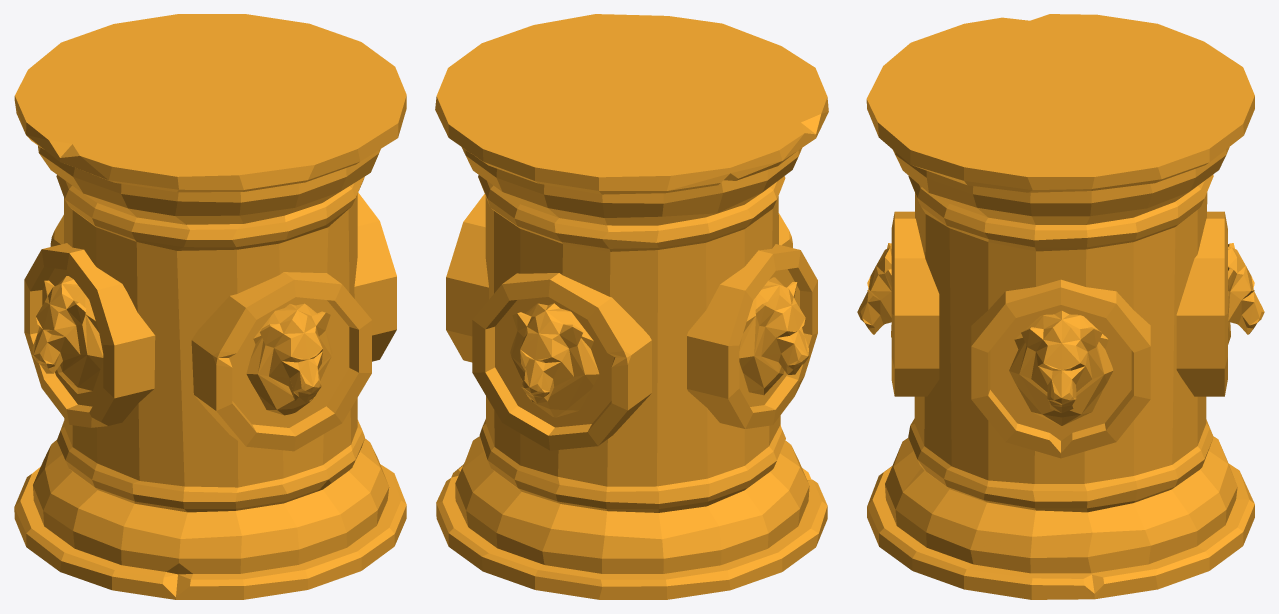
Rendered from SM_Pedestal_Cylindrical_A_Fantasy.fbx.
3 views of the same model, side by side, from view 1: azimuth 30°, elevation 25°; view 2: azimuth 150°, elevation 25°; view 3: azimuth 270°, elevation 25° (orthographic).
Parts seen in each view (by area): view 1: SM_Pedestal_Cylindrical_Fantasy_A; view 2: SM_Pedestal_Cylindrical_Fantasy_A; view 3: SM_Pedestal_Cylindrical_Fantasy_A.
Boxes of the visible parts, bbox=[...] form: SM_Pedestal_Cylindrical_Fantasy_A: bbox=[14, 14, 406, 599]; SM_Pedestal_Cylindrical_Fantasy_A: bbox=[435, 14, 828, 599]; SM_Pedestal_Cylindrical_Fantasy_A: bbox=[857, 14, 1264, 599].
Bounding box in the file's own units: 1.05 × 1.2 × 1.05.
